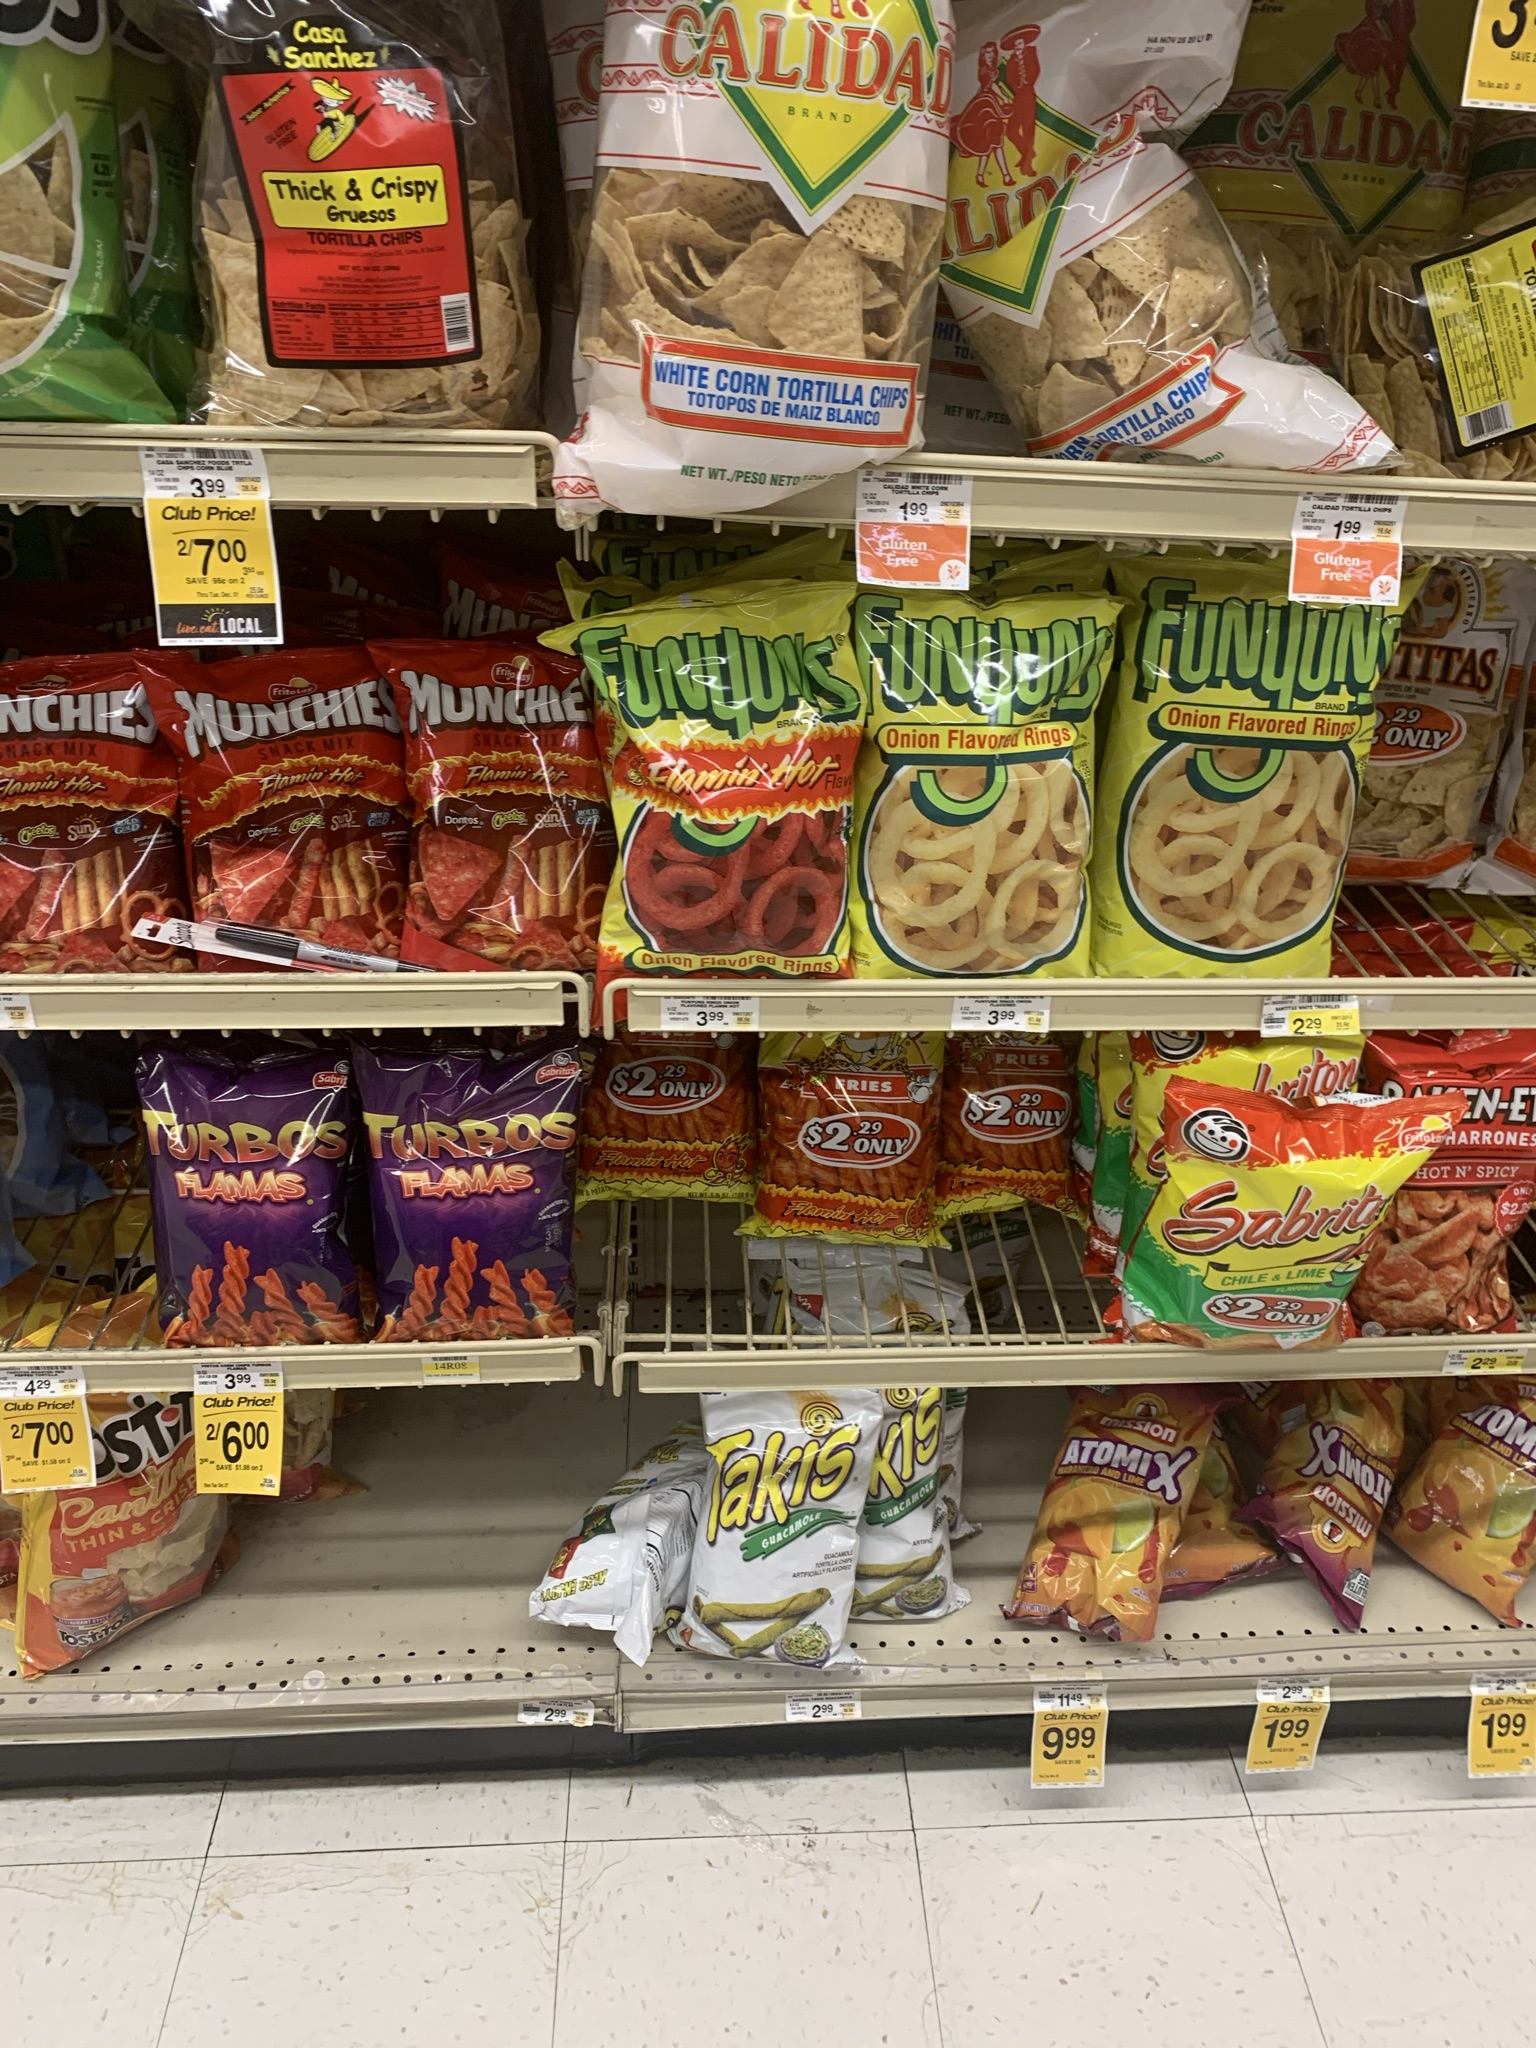chip: (574, 585, 863, 989), (852, 572, 1112, 1000), (1105, 564, 1346, 992), (403, 632, 607, 992), (169, 668, 390, 972), (1163, 1084, 1404, 1361), (137, 1066, 353, 1356), (363, 1068, 582, 1326), (3, 668, 157, 955)
